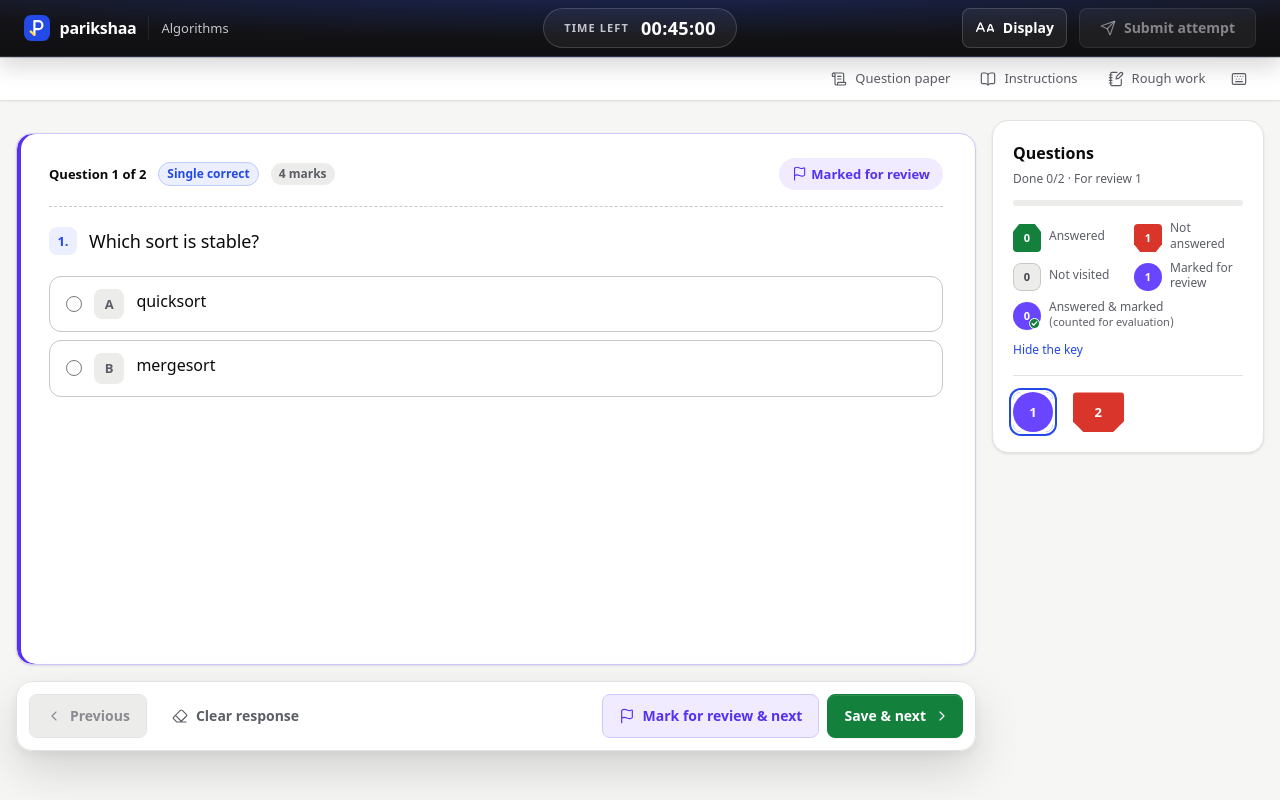
it: nothing a candidate types is lost › autosaves once typing pauses, not on every keystroke, and says so
The image size is (1280, 800).
Expected: the heading "Algorithms" is shown, [161,20,229,36]
Click the button "2": [1098, 412] box [1072,392,1124,432]
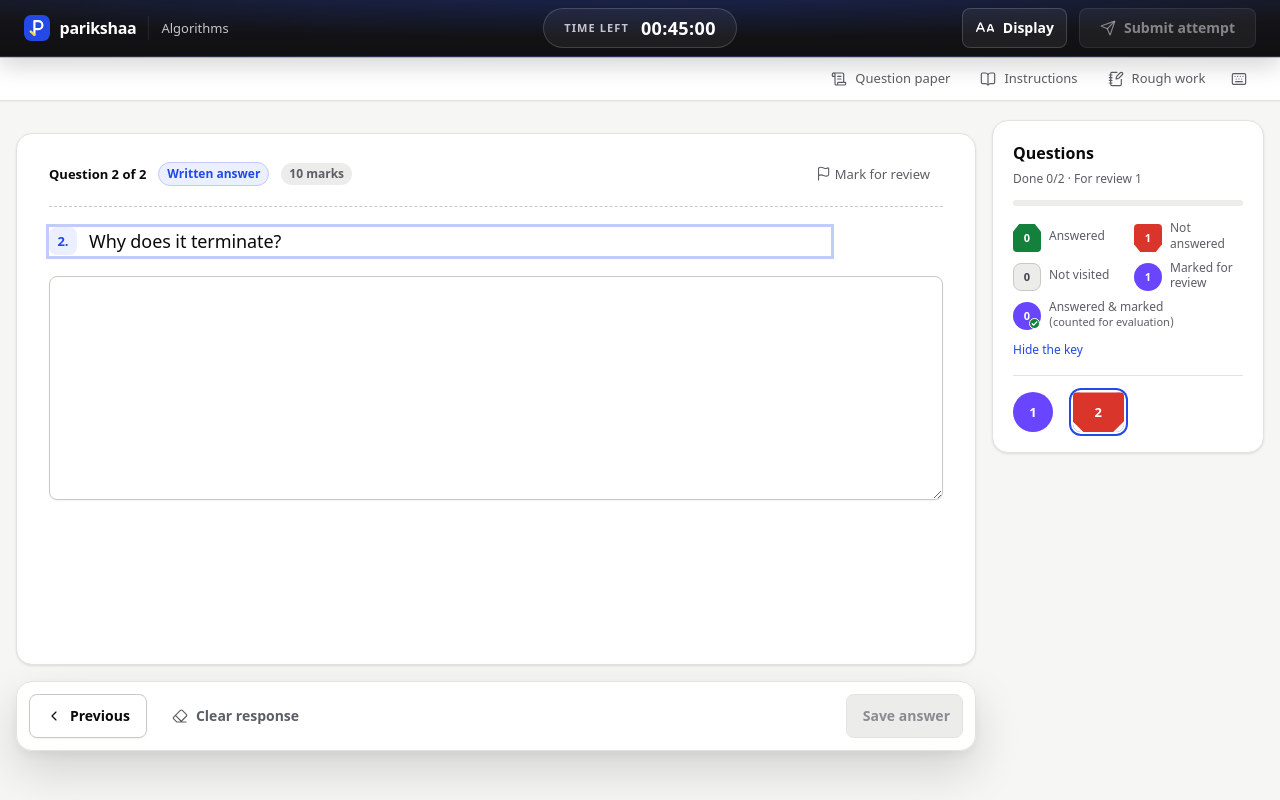
In the text box named "Why does it terminate?": [496, 388] box [49,276,943,500], type "The measure decreases"
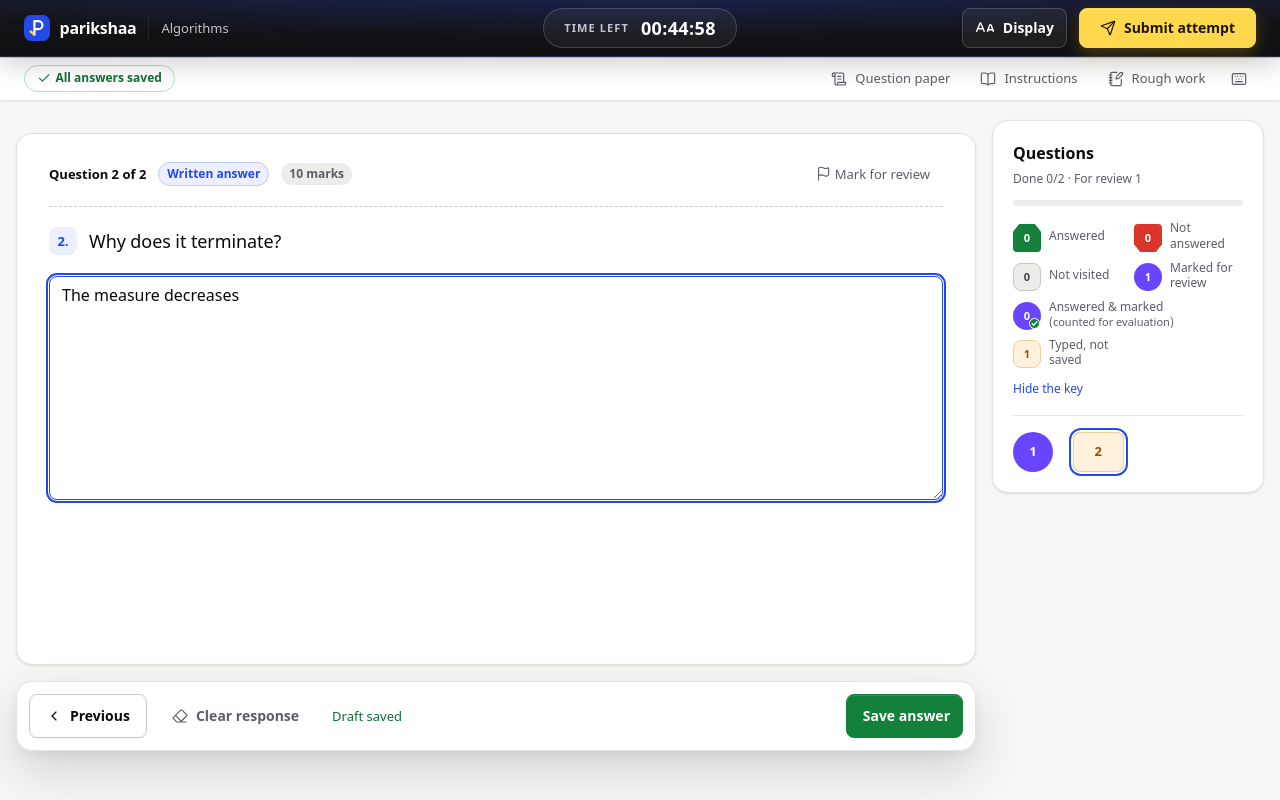
Now the text "Draft saved" is shown, box [332,707,402,725]
